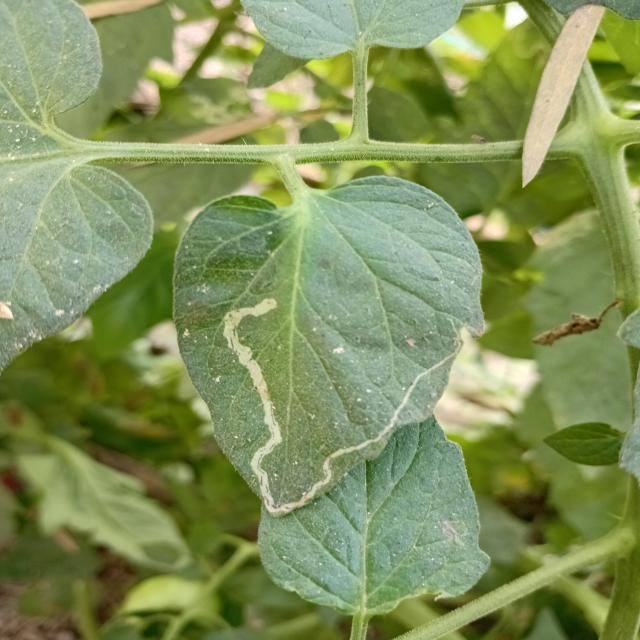Tuta absoluta: (150, 278, 420, 544)
